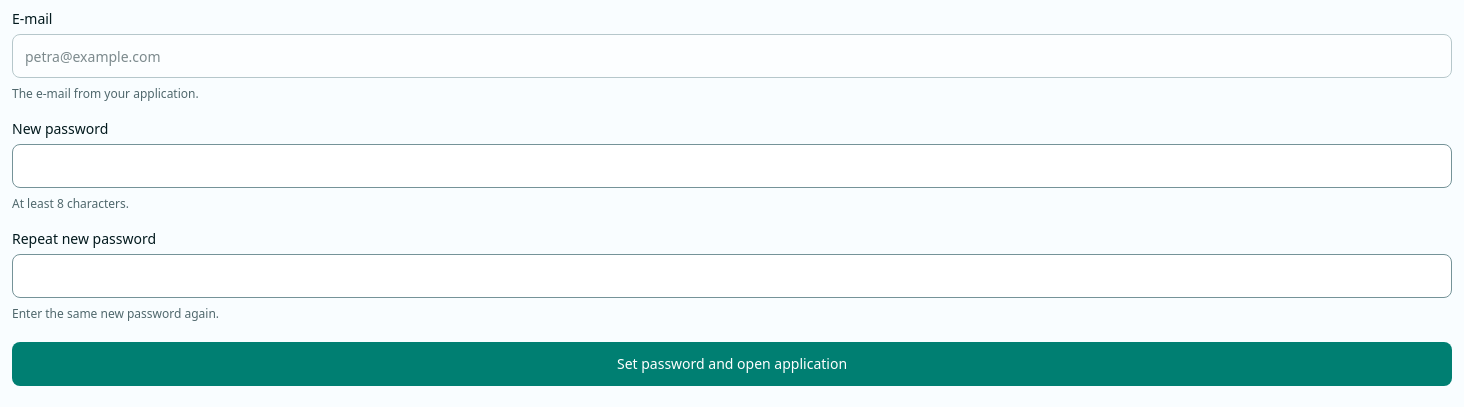
SetPasswordForm › refuses passwords that don't match and sends nothing
Type "my-own-password" into the password field labelled "New password" at (732, 166), box [12,144,1452,188]
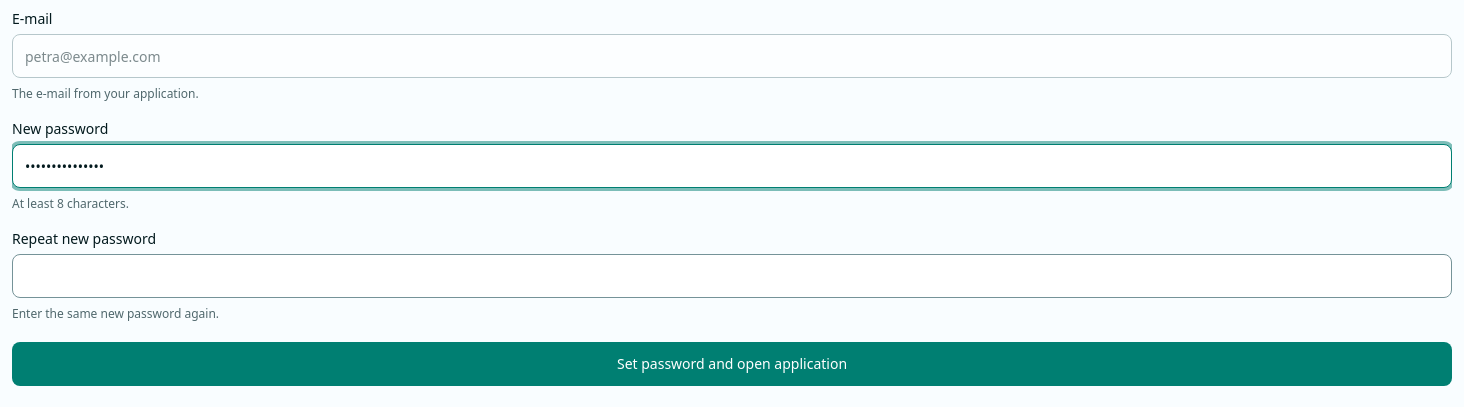
Type "my-own-passwor" into the password field labelled "Repeat new password" at (732, 276), box [12,254,1452,298]
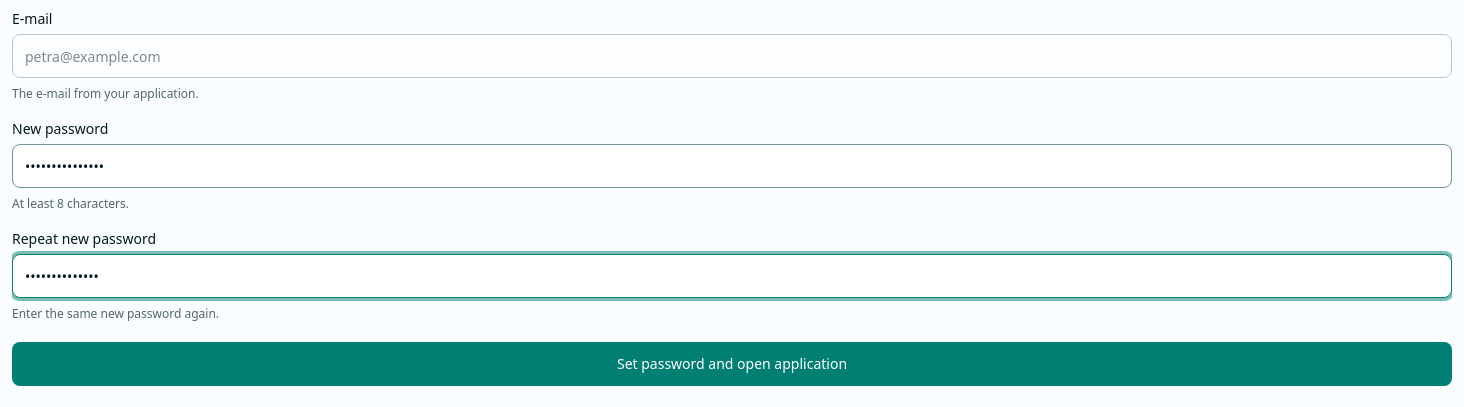
Click the button "Set password and open application" at (732, 364), box [12,342,1452,386]
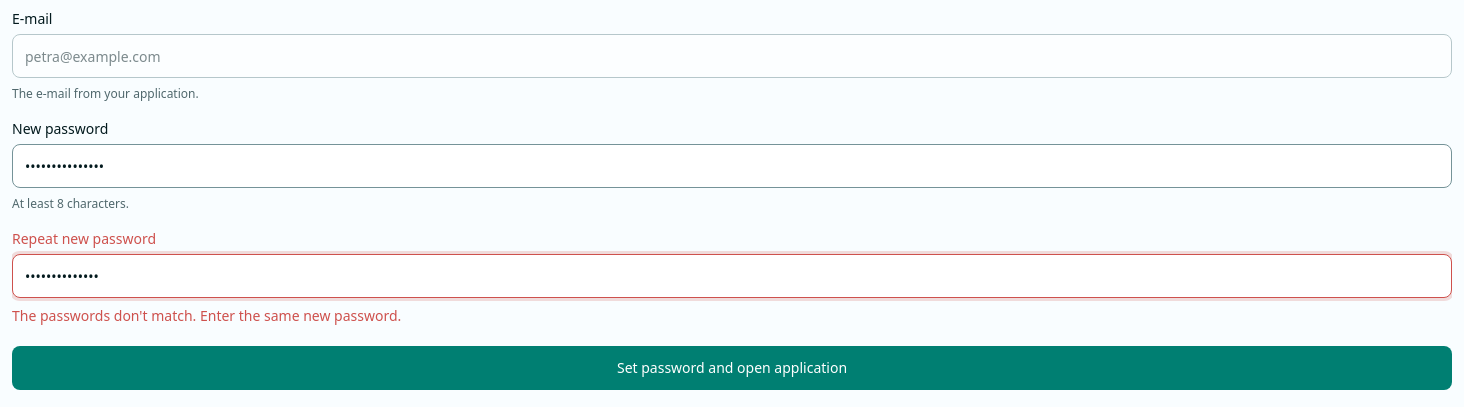
Check: the text "The passwords don't match. Enter the same new password." is shown, box [12,306,401,325]
